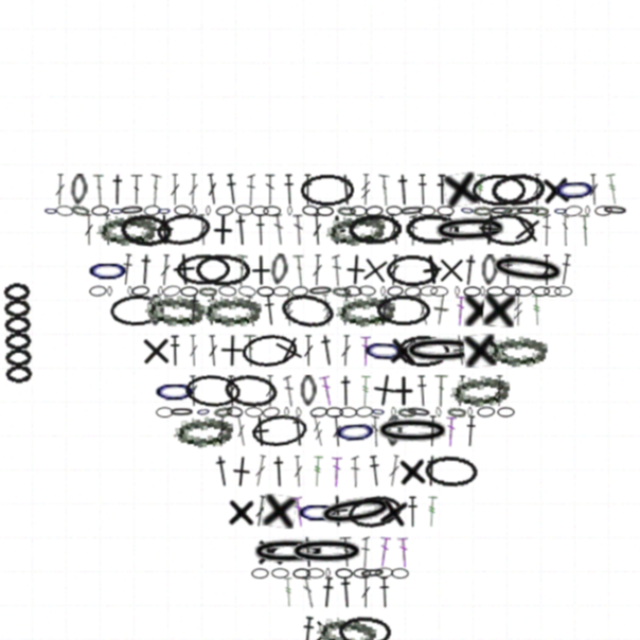chain: (299, 467, 377, 508), (461, 240, 539, 279), (408, 206, 484, 238), (237, 511, 312, 541), (273, 511, 348, 541), (354, 397, 429, 427), (381, 321, 456, 351), (308, 203, 367, 240), (328, 469, 384, 507), (265, 279, 320, 317), (148, 203, 203, 240), (426, 356, 484, 391), (300, 585, 358, 619), (165, 395, 223, 429), (318, 281, 376, 315), (238, 394, 293, 429), (229, 318, 284, 353), (212, 356, 266, 391), (93, 205, 150, 238), (462, 320, 519, 352), (192, 282, 249, 314), (114, 205, 166, 239), (176, 357, 229, 390), (455, 205, 508, 238), (464, 167, 517, 200), (139, 282, 195, 313), (402, 434, 454, 466), (105, 282, 157, 314), (186, 244, 238, 275), (321, 586, 372, 617), (168, 244, 219, 275), (330, 206, 381, 237), (384, 206, 435, 237), (357, 283, 408, 313), (366, 245, 417, 275), (285, 169, 336, 199), (447, 169, 498, 199), (376, 321, 426, 351), (316, 396, 359, 428), (343, 320, 386, 351), (523, 168, 566, 199), (281, 473, 323, 503), (146, 359, 188, 389), (83, 245, 125, 275), (256, 244, 275, 275), (365, 397, 382, 427), (68, 169, 85, 199), (285, 359, 301, 389), (141, 283, 157, 313), (456, 245, 472, 275), (384, 388, 410, 400), (341, 540, 366, 552), (378, 198, 403, 210), (292, 274, 317, 285), (114, 198, 139, 209), (570, 198, 595, 209), (161, 389, 186, 399), (463, 199, 488, 209), (488, 199, 513, 209), (291, 615, 310, 628), (203, 387, 222, 400), (68, 197, 87, 210), (316, 615, 334, 628), (155, 273, 173, 286), (476, 198, 495, 210), (249, 388, 267, 400), (294, 388, 312, 400), (226, 274, 244, 286), (276, 274, 294, 286), (54, 198, 72, 210), (205, 198, 223, 210), (346, 198, 364, 210), (534, 198, 552, 210), (383, 274, 400, 286), (337, 388, 355, 399), (326, 274, 344, 285), (356, 540, 373, 551), (215, 388, 232, 399), (452, 388, 469, 399), (86, 274, 103, 285), (126, 274, 143, 285), (208, 274, 225, 285), (340, 274, 357, 285), (398, 274, 415, 285), (476, 274, 493, 285), (88, 198, 105, 209), (137, 198, 154, 209), (166, 198, 183, 209), (224, 198, 241, 209), (377, 389, 395, 399), (424, 389, 442, 399), (189, 275, 207, 285), (315, 275, 333, 285), (320, 199, 338, 209), (448, 199, 466, 209), (502, 199, 520, 209), (367, 274, 383, 285), (287, 198, 303, 209), (275, 617, 292, 627), (306, 617, 323, 627), (332, 617, 349, 627), (239, 541, 256, 551), (258, 541, 275, 551), (278, 541, 295, 551), (291, 541, 308, 551), (318, 541, 335, 551), (335, 541, 352, 551), (371, 541, 388, 551), (149, 389, 166, 399), (233, 389, 250, 399), (309, 389, 326, 399), (322, 389, 339, 399), (471, 389, 488, 399), (172, 275, 189, 285), (244, 275, 261, 285), (259, 275, 276, 285), (408, 275, 425, 285), (439, 275, 456, 285), (461, 275, 478, 285), (488, 275, 505, 285), (504, 275, 521, 285), (515, 275, 532, 285), (525, 275, 542, 285), (239, 199, 256, 209), (250, 199, 267, 209), (300, 199, 317, 209), (332, 199, 349, 209), (414, 199, 431, 209), (563, 199, 580, 209), (366, 199, 382, 209), (397, 199, 413, 209), (187, 388, 201, 399), (352, 388, 366, 399), (436, 198, 450, 209), (43, 199, 57, 209), (105, 199, 119, 209), (150, 199, 164, 209), (524, 199, 538, 209), (281, 389, 287, 399), (413, 389, 419, 399), (122, 275, 128, 285), (309, 541, 314, 551), (270, 389, 275, 399), (371, 389, 376, 399), (443, 389, 448, 399), (103, 275, 108, 285), (151, 275, 156, 285), (361, 275, 366, 285), (431, 275, 436, 285), (455, 275, 460, 285), (183, 199, 188, 209), (196, 199, 201, 209), (273, 199, 278, 209), (554, 199, 559, 209)
double: (393, 282, 409, 313), (240, 434, 255, 465), (222, 396, 237, 427), (303, 358, 318, 389), (241, 472, 255, 503), (277, 472, 291, 503), (367, 434, 381, 465), (367, 206, 381, 237), (322, 511, 336, 541), (358, 510, 371, 541), (259, 206, 272, 237), (196, 168, 209, 199), (412, 359, 425, 389), (232, 321, 245, 351), (322, 283, 335, 313), (223, 245, 236, 275), (421, 207, 434, 237), (142, 169, 155, 199), (287, 549, 299, 579), (377, 511, 389, 541), (314, 397, 326, 427), (269, 359, 281, 389), (431, 359, 443, 389), (197, 321, 209, 351), (152, 245, 164, 275), (278, 245, 290, 275), (368, 245, 380, 275), (278, 207, 290, 237), (89, 169, 101, 199), (125, 169, 137, 199), (359, 169, 371, 199), (278, 435, 289, 465), (314, 435, 325, 465), (206, 397, 217, 427), (422, 397, 433, 427), (179, 359, 190, 389), (215, 359, 226, 389), (179, 321, 190, 351), (323, 321, 334, 351), (431, 283, 442, 313), (296, 245, 307, 275), (98, 207, 109, 237), (188, 207, 199, 237), (296, 207, 307, 237), (548, 207, 559, 237), (53, 169, 64, 199), (179, 169, 190, 199), (557, 169, 568, 199), (342, 549, 352, 579), (252, 359, 262, 389), (468, 359, 478, 389), (288, 321, 298, 351), (342, 321, 352, 351), (234, 283, 244, 313), (315, 245, 325, 275), (513, 245, 523, 275), (81, 207, 91, 237), (162, 169, 172, 199), (252, 169, 262, 199), (504, 169, 514, 199), (333, 435, 342, 465), (343, 511, 351, 541), (352, 397, 360, 427), (388, 207, 396, 237), (514, 207, 522, 237), (235, 169, 243, 199), (532, 207, 539, 237)
enseble_chain: (2, 271, 36, 369), (604, 283, 638, 356)
half_double: (435, 244, 456, 276), (355, 282, 375, 314), (202, 434, 222, 465), (301, 320, 321, 351), (175, 282, 195, 313), (400, 434, 419, 465), (193, 282, 212, 313), (130, 244, 149, 275), (275, 396, 293, 427), (320, 549, 338, 579), (284, 511, 302, 541), (221, 207, 239, 237), (104, 169, 122, 199), (320, 169, 338, 199), (374, 169, 392, 199), (257, 435, 274, 465), (320, 359, 337, 389), (285, 586, 300, 617), (249, 282, 264, 313), (528, 244, 543, 275), (349, 434, 363, 465), (115, 244, 129, 275), (214, 168, 228, 199), (304, 549, 318, 579), (394, 359, 407, 389), (359, 549, 371, 579), (404, 397, 416, 427), (440, 397, 452, 427), (161, 321, 173, 351), (242, 207, 254, 237), (269, 169, 281, 199), (395, 169, 407, 199), (413, 169, 425, 199), (386, 473, 397, 503), (476, 245, 487, 275), (287, 169, 298, 199)
noise: (616, 188, 640, 199)
single: (256, 317, 293, 354), (339, 243, 373, 277), (420, 167, 454, 201), (249, 471, 282, 504), (393, 243, 426, 276), (483, 205, 516, 238), (358, 471, 390, 505), (214, 434, 246, 466), (232, 396, 264, 428), (439, 320, 471, 352), (457, 282, 489, 314), (295, 586, 326, 617), (322, 244, 353, 275), (142, 206, 173, 237), (368, 320, 398, 352), (512, 168, 542, 200), (242, 511, 272, 541), (368, 359, 398, 389), (134, 321, 164, 351), (458, 321, 488, 351), (440, 283, 470, 313), (233, 245, 263, 275), (413, 245, 443, 275), (197, 207, 227, 237), (377, 434, 406, 465), (351, 357, 378, 390), (305, 207, 334, 237), (216, 473, 244, 503), (163, 244, 188, 275), (451, 206, 476, 237), (308, 472, 332, 503), (209, 321, 232, 351), (409, 282, 428, 313), (428, 320, 446, 351)
treble: (294, 396, 310, 427), (573, 168, 588, 199), (304, 283, 317, 313), (341, 359, 353, 389), (449, 169, 461, 199), (269, 549, 280, 579), (404, 473, 415, 503), (296, 435, 307, 465), (269, 283, 280, 313), (503, 283, 514, 313), (486, 283, 496, 313), (342, 169, 352, 199)
